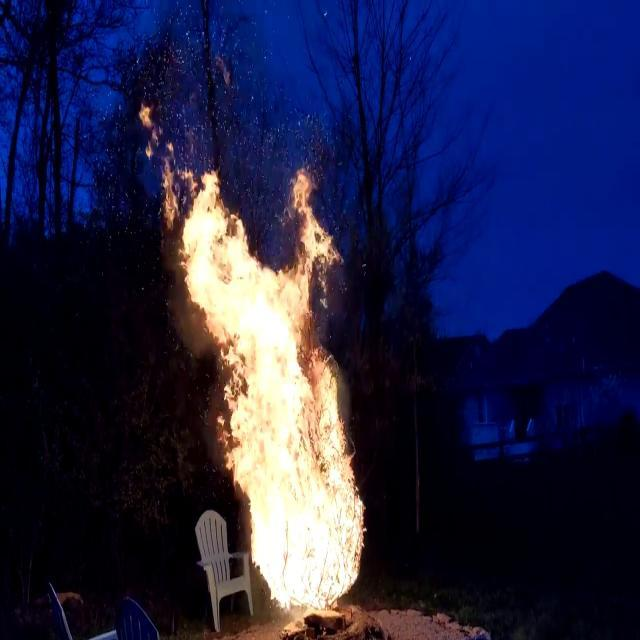Fire: (172, 145, 372, 610)
